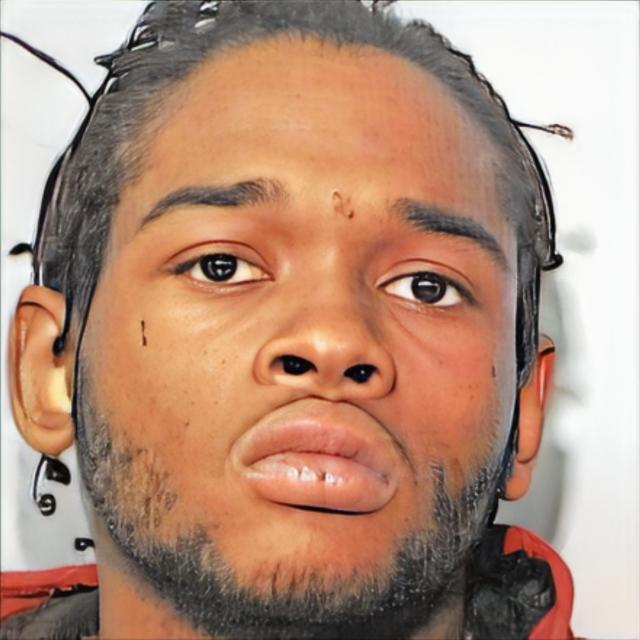sad: (83, 32, 524, 637)
